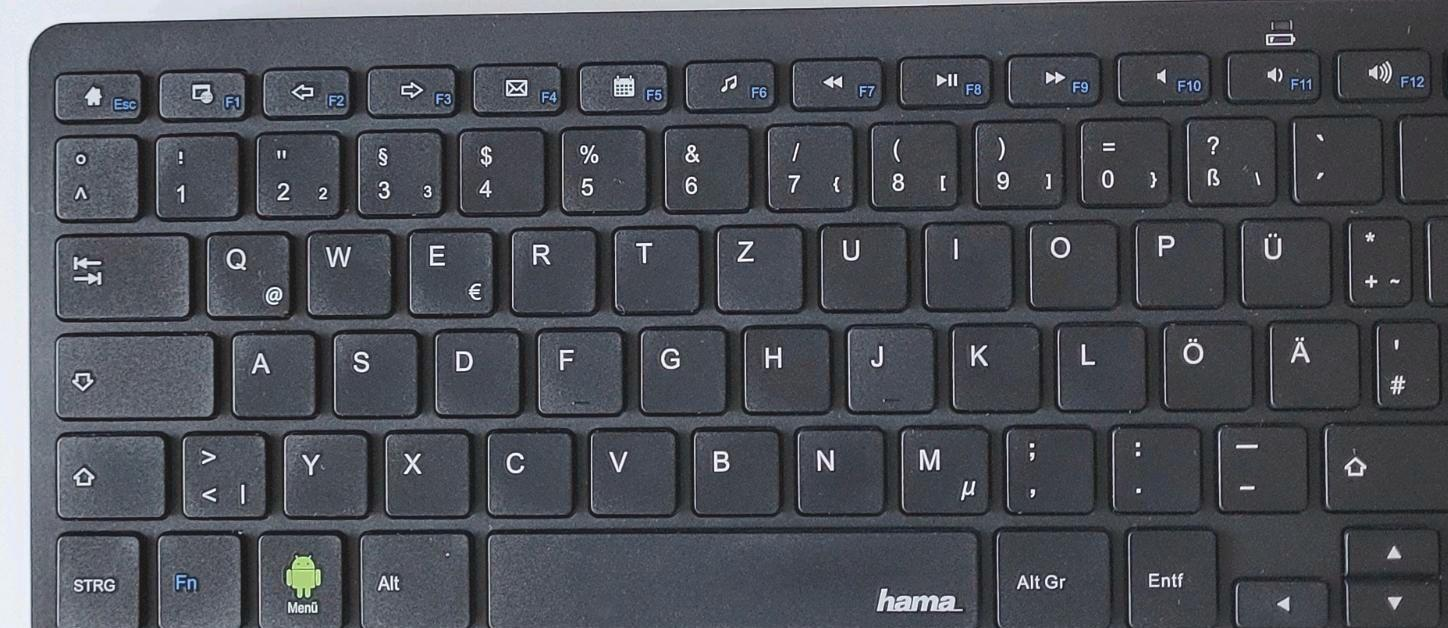0: (1074, 114, 1170, 206)
1: (150, 130, 240, 218)
2: (251, 128, 344, 217)
3: (352, 127, 444, 217)
4: (455, 124, 546, 214)
5: (556, 122, 647, 213)
6: (659, 121, 750, 212)
7: (762, 119, 855, 212)
8: (865, 118, 958, 209)
9: (969, 115, 1064, 209)
a: (227, 328, 316, 418)
accent: (1287, 110, 1382, 202)
ae: (1263, 316, 1360, 409)
alt-left: (353, 527, 472, 628)
altgr-right: (989, 524, 1111, 628)
b: (686, 422, 781, 515)
c: (481, 424, 574, 517)
caret: (49, 132, 139, 221)
comma: (999, 421, 1094, 513)
d: (428, 325, 522, 416)
del: (1395, 109, 1448, 202)
e: (403, 224, 496, 316)
enter: (1421, 209, 1448, 409)
f: (532, 324, 623, 414)
g: (634, 322, 726, 414)
h: (737, 321, 831, 413)
hash: (1370, 315, 1438, 408)
i: (919, 216, 1013, 309)
j: (840, 319, 935, 411)
k: (945, 318, 1040, 412)
keyboard: (19, 1, 1448, 628)
l: (1051, 318, 1146, 410)
less: (176, 426, 267, 519)
m: (893, 421, 989, 515)
minus: (1209, 420, 1308, 512)
n: (789, 422, 884, 514)
o: (1023, 216, 1119, 309)
oe: (1156, 317, 1253, 410)
p: (1128, 214, 1225, 308)
plus: (1341, 211, 1412, 306)
point: (1105, 421, 1200, 511)
q: (200, 228, 294, 319)
r: (505, 224, 599, 315)
s: (327, 326, 420, 417)
shift-left: (49, 428, 166, 520)
shift-lock: (49, 328, 216, 419)
shift-right: (1317, 416, 1448, 511)
space: (479, 523, 982, 628)
ss: (1180, 112, 1275, 205)
strg-left: (49, 527, 143, 628)
t: (610, 221, 699, 313)
tab: (48, 229, 191, 320)
u: (815, 218, 908, 311)
ue: (1232, 212, 1331, 308)
v: (584, 422, 677, 516)
w: (302, 225, 393, 318)
x: (379, 426, 470, 517)
y: (278, 426, 369, 518)
z: (711, 220, 804, 313)
